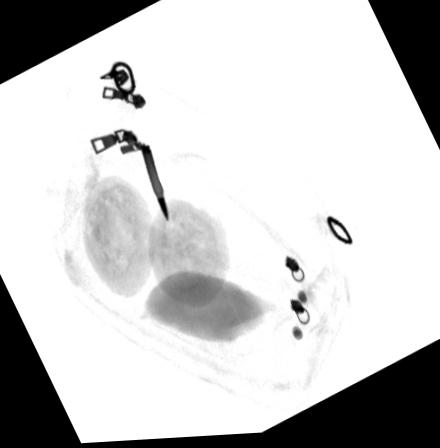Bullet: (138, 146, 169, 228)
